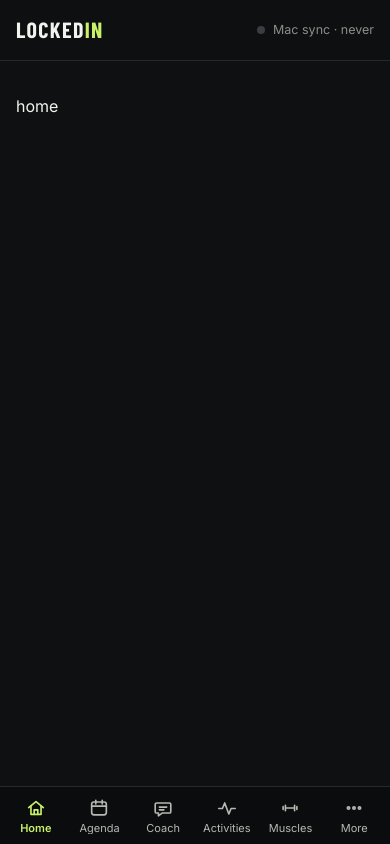
Test: Layout › puts Agenda second and tucks Trends, Forecast, Body, Import and Sign out under More on phones
The image size is (390, 844).
Click the button "More" at point(354, 816), box [322,787,386,843]
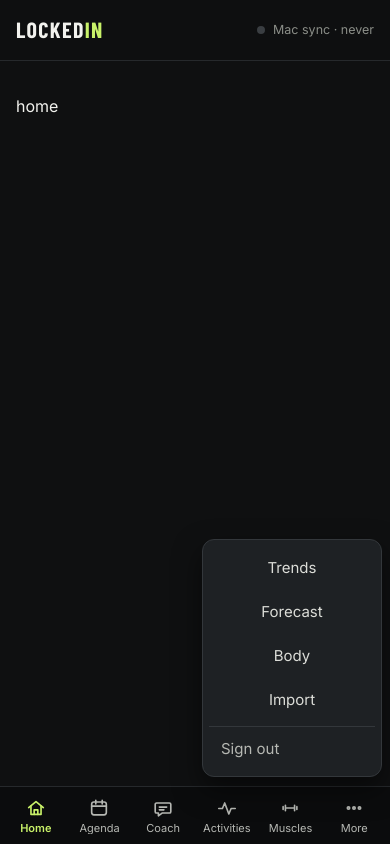
Result: the menu items read "Trends", "Forecast", "Body", "Import", "Sign out", in this order at [268,558,316,577]; [261,602,323,621]; [274,646,310,665]; [269,690,315,709]; [209,726,375,770]
